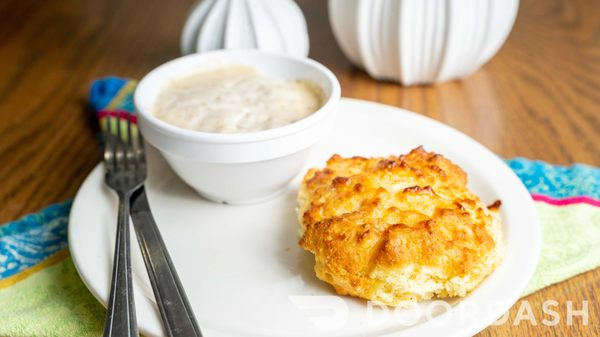sushi: (133, 48, 342, 206)
